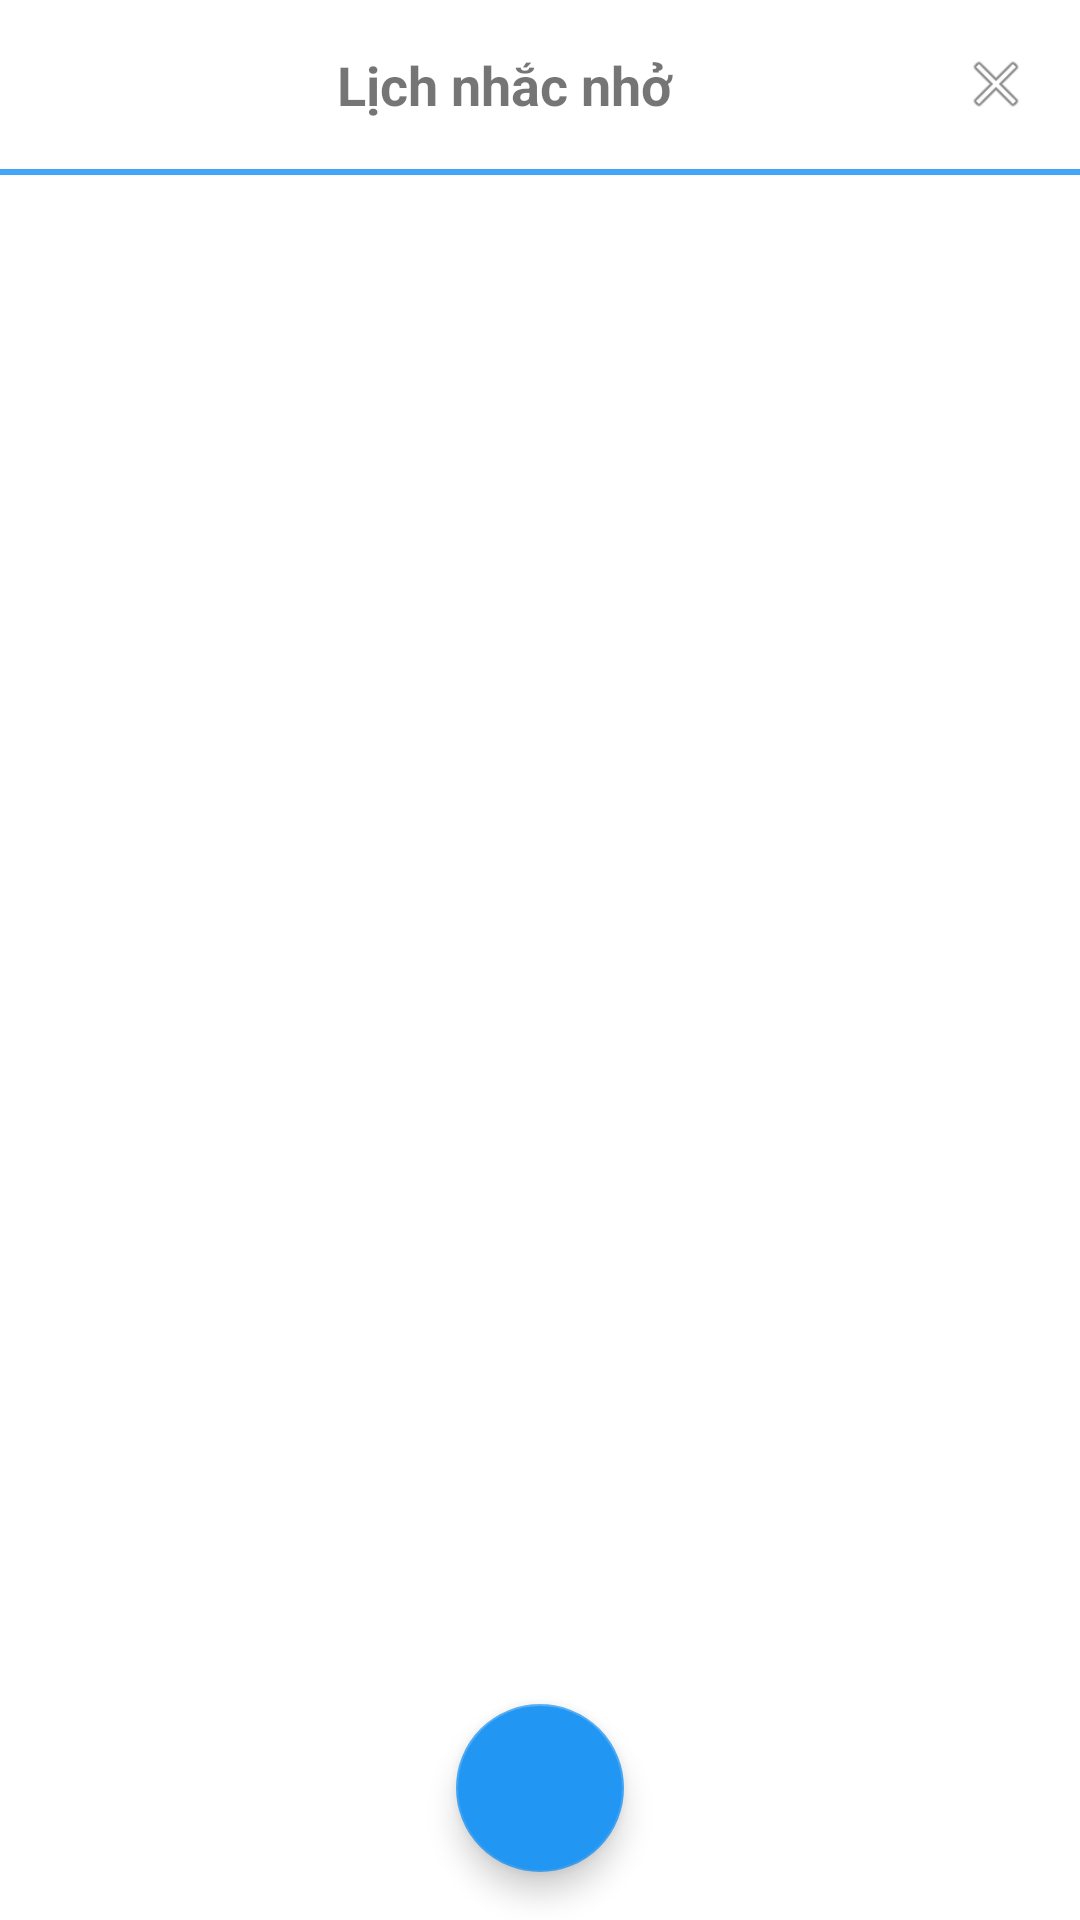

Screen size 1080×1920. Icon name, then its box in pixels as (x1, y1, x2, y2):
close clear cancel: (973, 61, 1019, 107)
